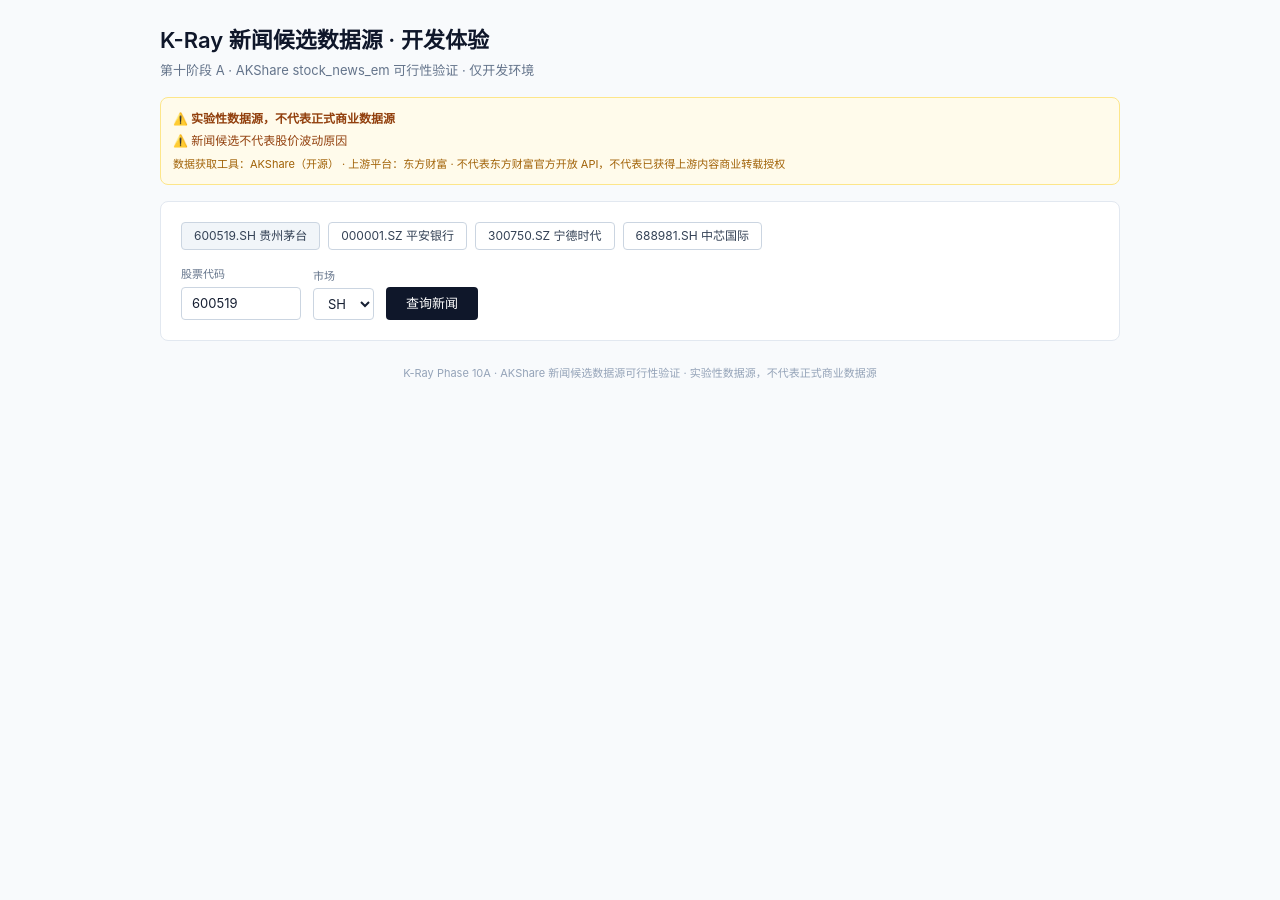
Test: 第十阶段 A 前端测试 - 开发事件源页面（封板修复版） › 测试3: 查询成功后展示新闻列表，包含标题、时间、来源和摘要
Click the button with test id "query-button" at x=432, y=303, box [386, 286, 478, 320]
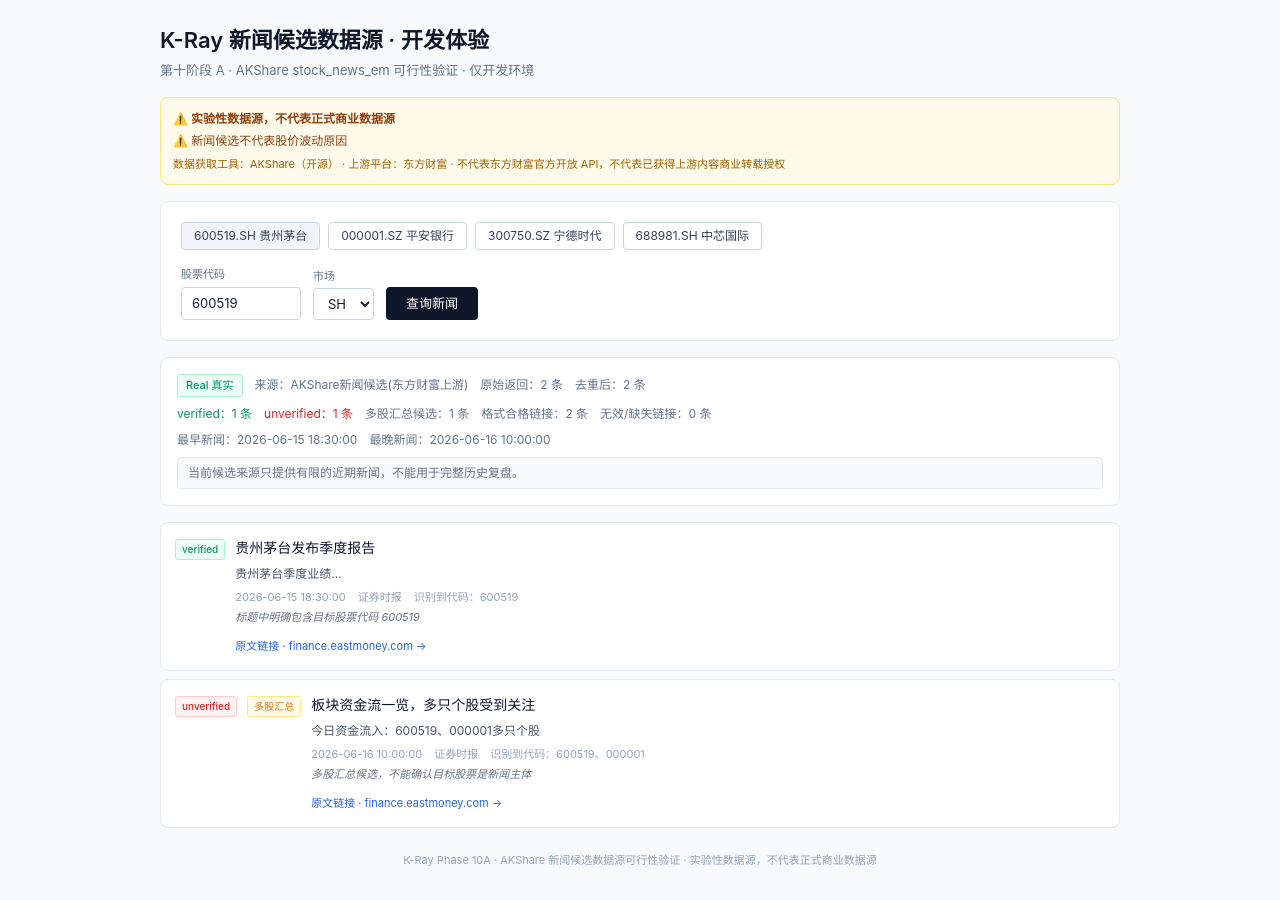
expect the element with test id "news-list" is shown: met, box [160, 522, 1120, 828]
expect the element with test id "news-item-0" is shown: met, box [160, 522, 1120, 671]
expect the text with test id "news-title-0" reads "贵州茅台发布季度报告": met, box [235, 538, 375, 556]
